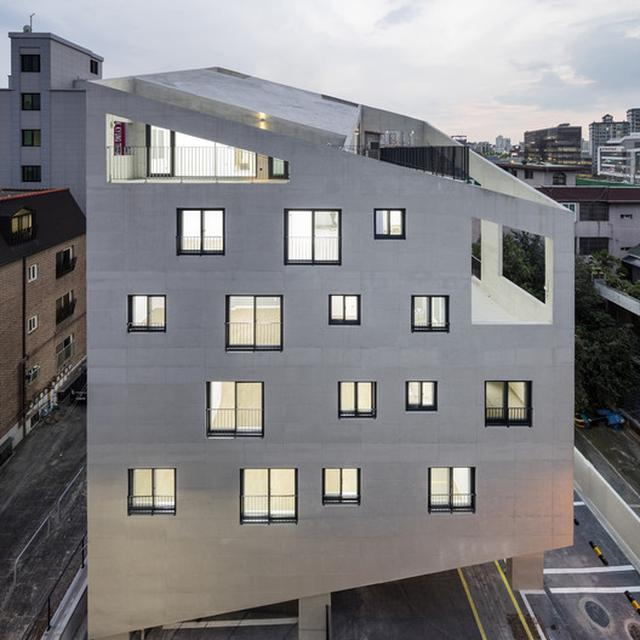building: (91, 55, 582, 630), (0, 173, 85, 424), (3, 20, 91, 198), (591, 106, 640, 190)
